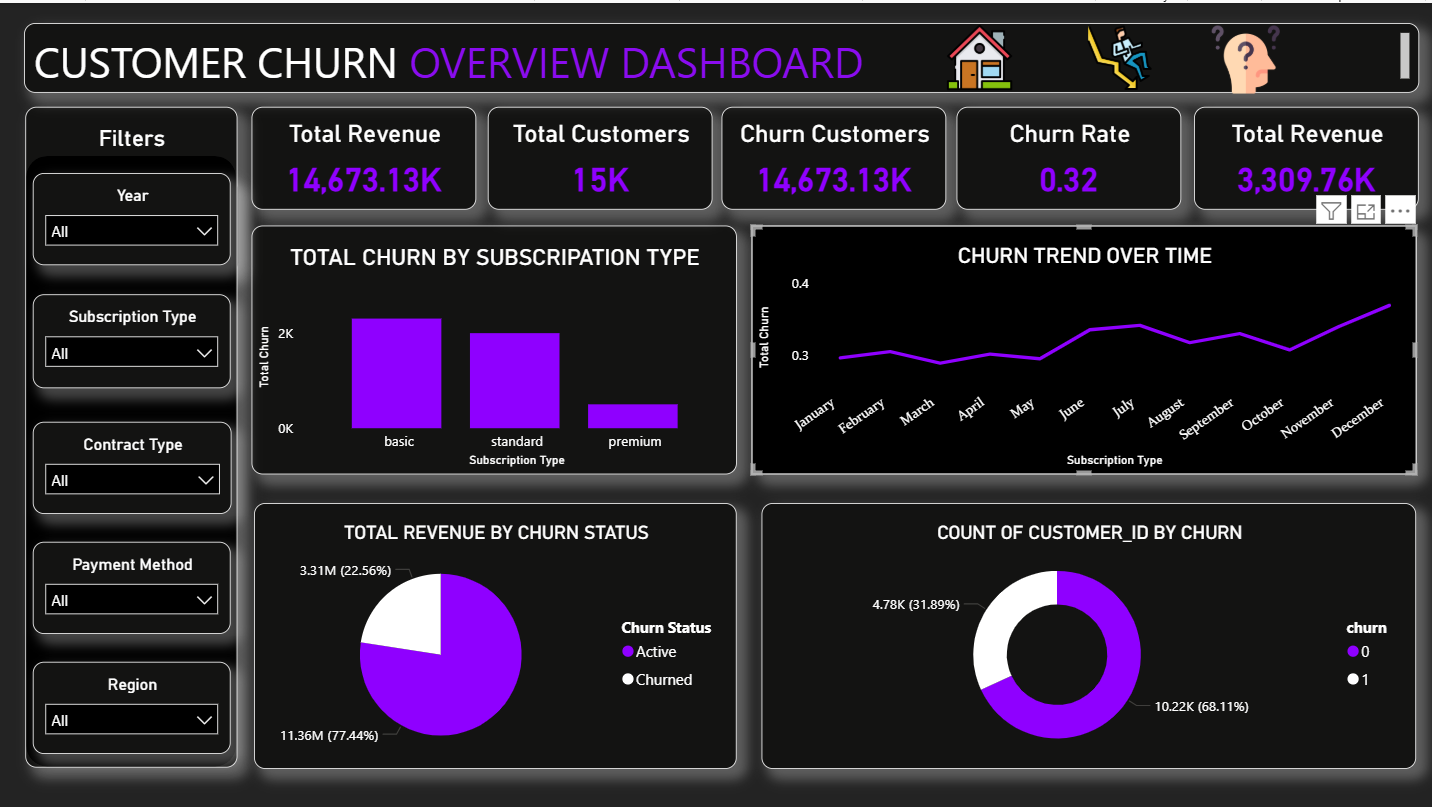

Layout of this report page (visuals, bound fields, positions):
{"tool":"powerbi","page":{"name":"over view","canvas":[1280,720],"ordinal":0},"visuals":[{"type":"card","title":"Total Revenue","fields":{"Values":["churn churndata.total revenue"]},"box":[225.6,93,201.2,91.9],"z":0},{"type":"columnChart","title":"Total Churn By Subscription Type","fields":{"Category":["churn churndata.subscription_type"],"Y":["churn churndata.total churn"]},"box":[225.6,198.8,433.7,222.1],"z":1000},{"type":"slicer","title":"Subscription Type","fields":{"Values":["churn churndata.subscription_type"]},"box":[53.6,157.4,159.7,83.7],"z":2000},{"type":"textbox","box":[22.1,17.4,1246.5,62.8],"z":3000,"group":"g1"},{"type":"shape","title":"Filters","box":[23.3,93,189.5,590.7],"z":4000},{"type":"slicer","title":"Subscription Type","fields":{"Values":["churn churndata.subscription_type"]},"box":[30.2,260.5,176.7,83.7],"z":5000},{"type":"slicer","title":"Year","fields":{"Values":["churn churndata.YEAR"]},"box":[30.2,152.3,176.7,82.6],"z":6000},{"type":"slicer","title":"Contract Type","fields":{"Values":["churn churndata.contract_type"]},"box":[30.2,374.4,177.9,82.6],"z":7000},{"type":"slicer","title":"Payment Method","fields":{"Values":["churn churndata.payment_method"]},"box":[30.2,481.4,176.7,82.6],"z":8000},{"type":"slicer","title":"Region","fields":{"Values":["churn churndata.region"]},"box":[30.2,588.4,176.7,82.6],"z":9000},{"type":"card","title":"Total Customers","fields":{"Values":["churn churndata.total customers"]},"box":[436,93,201.2,91.9],"z":10000},{"type":"card","title":"Churn Customers","fields":{"Values":["churn churndata.total revenue"]},"box":[645.4,93,201.2,91.9],"z":11000},{"type":"card","title":"Churn Rate","fields":{"Values":["churn churndata.churn rate"]},"box":[855.8,93,201.2,91.9],"z":12000},{"type":"card","title":"Total Revenue","fields":{"Values":["churn churndata.loss revenue"]},"box":[1067.4,93,201.2,91.9],"z":13000},{"type":"lineChart","title":"Total Churn By Subscription Type","fields":{"Y":["churn churndata.churn rate"],"Category":["churn churndata.signup_date.Variation.Date Hierarchy.Year","churn churndata.signup_date.Variation.Date Hierarchy.Month"]},"box":[683.4,205.8,585.9,215.4],"z":14000},{"type":"pieChart","title":"Total Churn By Subscription Type","fields":{"Category":["churn churndata.Churn Status"],"Y":["churn churndata.total revenue"]},"box":[227.9,446.5,431.4,237.2],"z":15000},{"type":"donutChart","title":"Total Churn By Subscription Type","fields":{"Category":["churn churndata.churn"],"Y":["CountNonNull(churn churndata.customer_id)"]},"box":[681.4,446.5,584.9,237.2],"z":16000},{"type":"image","box":[836.7,18.8,78.9,58.9],"z":17000,"group":"g1"},{"type":"image","box":[956.7,20,87.8,57.8],"z":18000,"group":"g1"},{"type":"image","box":[1075.6,20,76.7,61.1],"z":19000,"group":"g1"},{"type":"group","id":"g1","title":"Group 1","box":[22.1,17.4,1246.5,63.7],"z":19001}]}

Visuals, with their boxes in screenshot pixels (x1, y1, x2, y2), scaled from the page's 1280x720 canvas onto the 1432x807 screenshot:
"Total Revenue" card: 252, 104, 477, 207
"Total Churn By Subscription Type" columnChart: 252, 223, 738, 472
"Subscription Type" slicer: 60, 176, 239, 270
textbox: 25, 20, 1419, 90
"Filters" shape: 26, 104, 238, 766
"Subscription Type" slicer: 34, 292, 231, 386
"Year" slicer: 34, 171, 231, 263
"Contract Type" slicer: 34, 420, 233, 512
"Payment Method" slicer: 34, 540, 231, 632
"Region" slicer: 34, 659, 231, 752
"Total Customers" card: 488, 104, 713, 207
"Churn Customers" card: 722, 104, 947, 207
"Churn Rate" card: 957, 104, 1183, 207
"Total Revenue" card: 1194, 104, 1419, 207
"Total Churn By Subscription Type" lineChart: 765, 231, 1420, 472
"Total Churn By Subscription Type" pieChart: 255, 500, 738, 766
"Total Churn By Subscription Type" donutChart: 762, 500, 1417, 766
image: 936, 21, 1024, 87
image: 1070, 22, 1169, 87
image: 1203, 22, 1289, 91
"Group 1" group: 25, 20, 1419, 91
